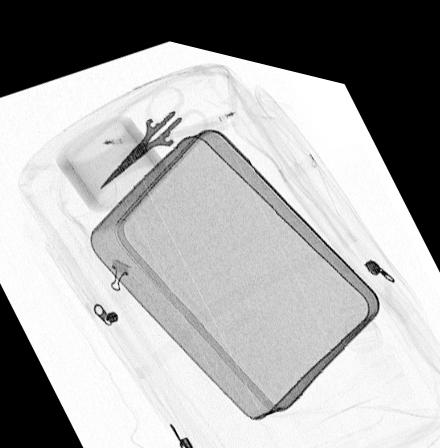Scissors: (94, 75, 210, 189)
